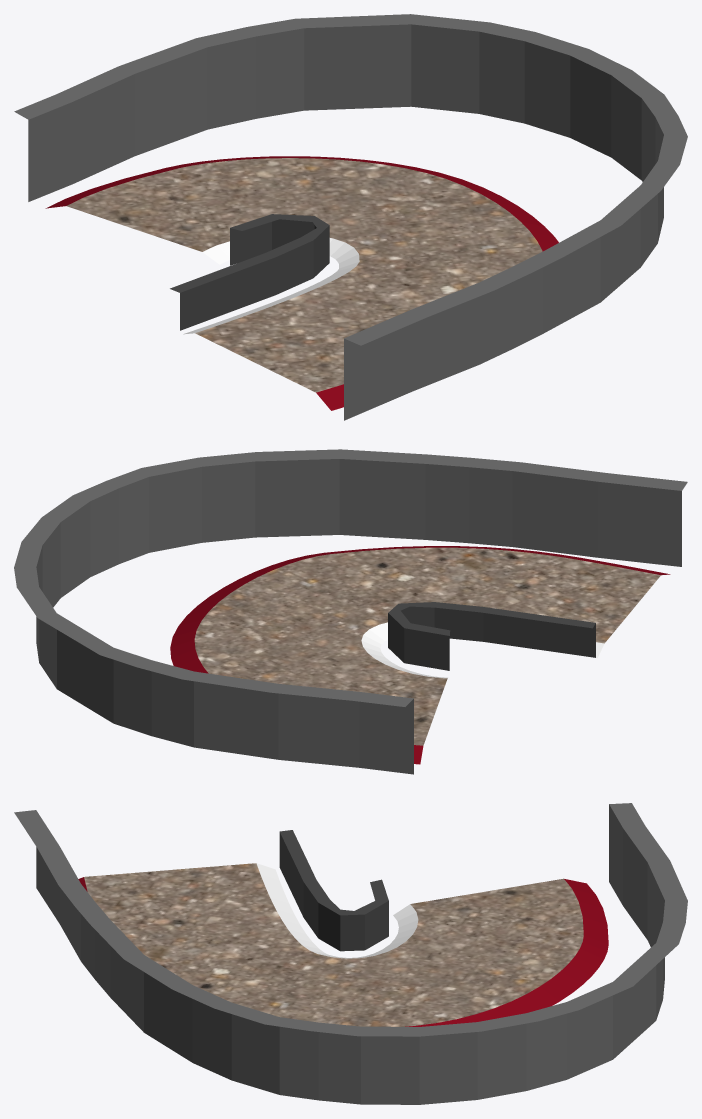
Rendered from KartTrackS12.fbx.
3 views of the same model, one above another, from view 1: azimuth 30°, elevation 25°; view 2: azimuth 150°, elevation 25°; view 3: azimuth 270°, elevation 25° (orthographic). The views are drawn at different scales.
Parts seen in each view (by area): view 1: PistaS12; view 2: PistaS12; view 3: PistaS12.
Boxes of the visible parts, box(x1,y1,x2,y2) form: PistaS12: box(14, 14, 687, 420); PistaS12: box(14, 449, 687, 774); PistaS12: box(14, 803, 687, 1104).
Size of the model in its own units: 5039 by 749 by 5868.
